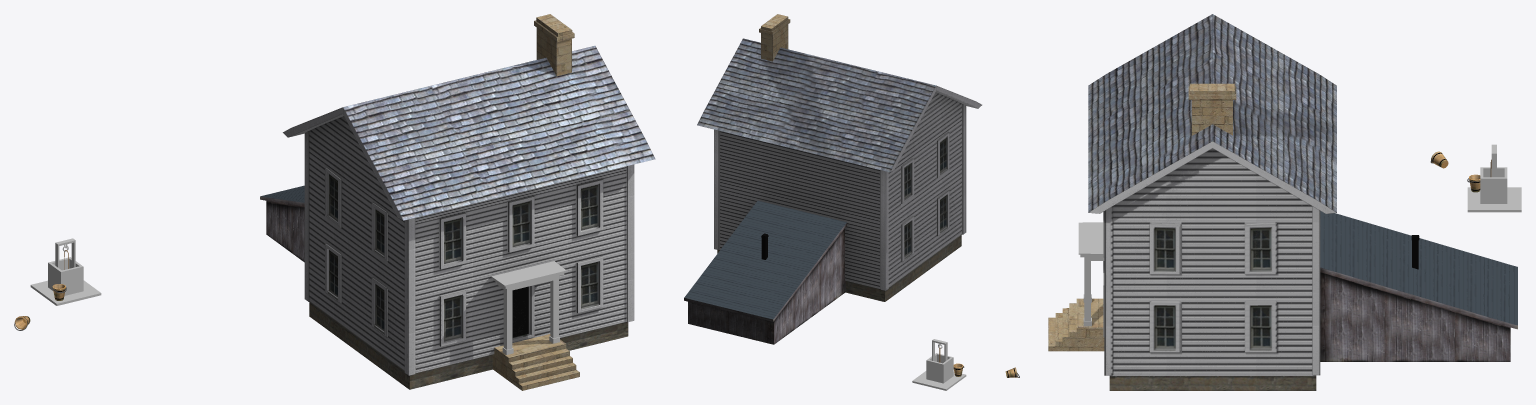
Rendered from McworterHouse.FBX.
3 views of the same model, side by side, from view 1: azimuth 30°, elevation 25°; view 2: azimuth 150°, elevation 25°; view 3: azimuth 270°, elevation 25° (orthographic). The views are drawn at different scales.
Parts seen in each view (by area): view 1: LMcWorterHouseLoPoly001, StepsLoPoly001, PorchLoPoly001, Kitchen, WellLoPoly001, ChimneLoPoly001; view 2: LMcWorterHouseLoPoly001, Kitchen, WellLoPoly001, ChimneLoPoly001; view 3: LMcWorterHouseLoPoly001, Kitchen, StepsLoPoly001, ChimneLoPoly001, WellLoPoly001, PorchLoPoly001.
Part boxes in pixels (x1,y1,x2,y2): LMcWorterHouseLoPoly001: [283, 46, 655, 389]; StepsLoPoly001: [492, 334, 579, 390]; PorchLoPoly001: [491, 261, 566, 354]; Kitchen: [260, 185, 304, 262]; WellLoPoly001: [30, 238, 101, 305]; ChimneLoPoly001: [534, 14, 574, 76]; LMcWorterHouseLoPoly001: [697, 38, 981, 301]; Kitchen: [684, 200, 846, 344]; WellLoPoly001: [912, 339, 966, 390]; ChimneLoPoly001: [759, 14, 790, 61]; LMcWorterHouseLoPoly001: [1088, 14, 1336, 390]; Kitchen: [1320, 211, 1517, 361]; StepsLoPoly001: [1048, 298, 1104, 351]; ChimneLoPoly001: [1188, 83, 1236, 135]; WellLoPoly001: [1467, 144, 1521, 212]; PorchLoPoly001: [1078, 222, 1104, 326].
Size of the model in its own units: 1583 by 907 by 1335.
